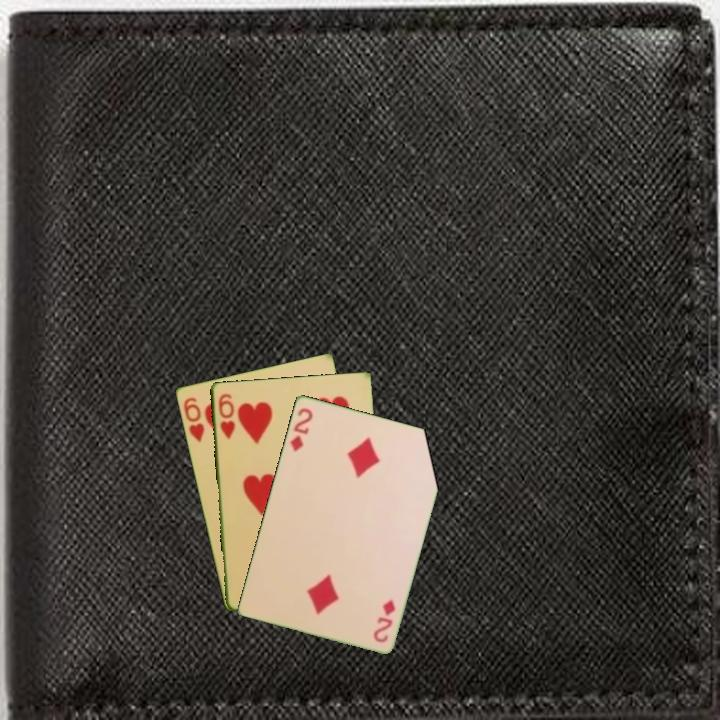2d: (287, 404, 316, 454), (370, 596, 398, 645)
6h: (179, 393, 207, 445), (214, 390, 238, 442)
